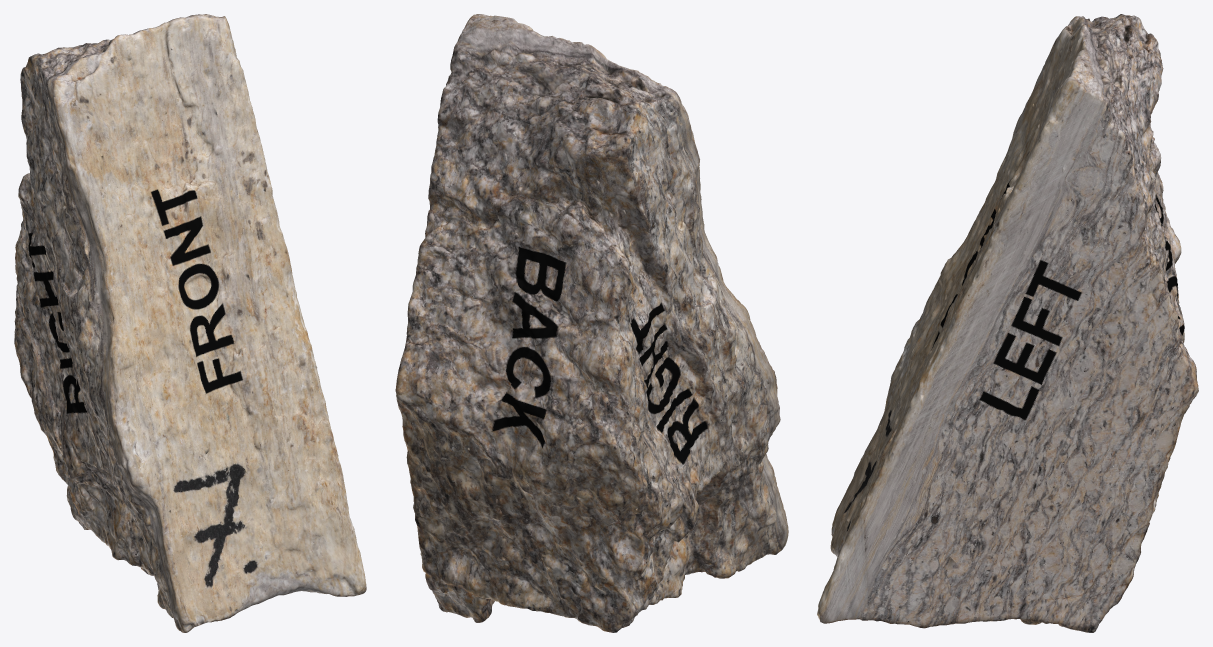
The model's file is FONT.glb.
3 views of the same model, side by side, from view 1: azimuth 30°, elevation 25°; view 2: azimuth 150°, elevation 25°; view 3: azimuth 270°, elevation 25° (orthographic). The views are drawn at different scales.
Parts seen in each view (by area): view 1: Metashape 100000 export; view 2: Metashape 100000 export; view 3: Metashape 100000 export.
Boxes of the visible parts, left/top/right/bottom form: Metashape 100000 export: left=14, top=14, right=366, bottom=632; Metashape 100000 export: left=395, top=14, right=788, bottom=632; Metashape 100000 export: left=817, top=14, right=1198, bottom=632.
Bounding box in the file's own units: 0.4947 × 1.17 × 0.7348.
Materials: 1 (1 with a texture image).
